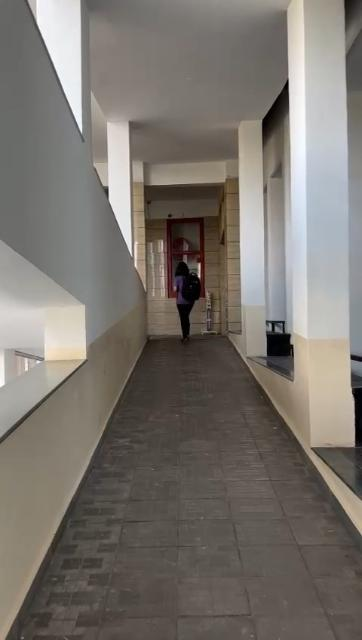floor: (11, 335, 362, 640)
moving-obj: (174, 252, 192, 331)
wall: (0, 0, 141, 640), (290, 14, 352, 440), (107, 122, 149, 344), (233, 119, 265, 363), (146, 219, 166, 335), (206, 218, 222, 290)
